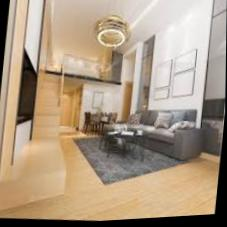Bench: (27, 88, 71, 147)
